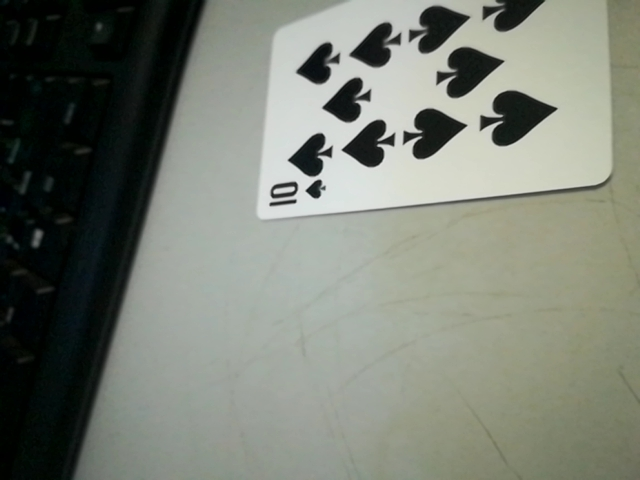ht 10: (256, 176, 335, 217)
